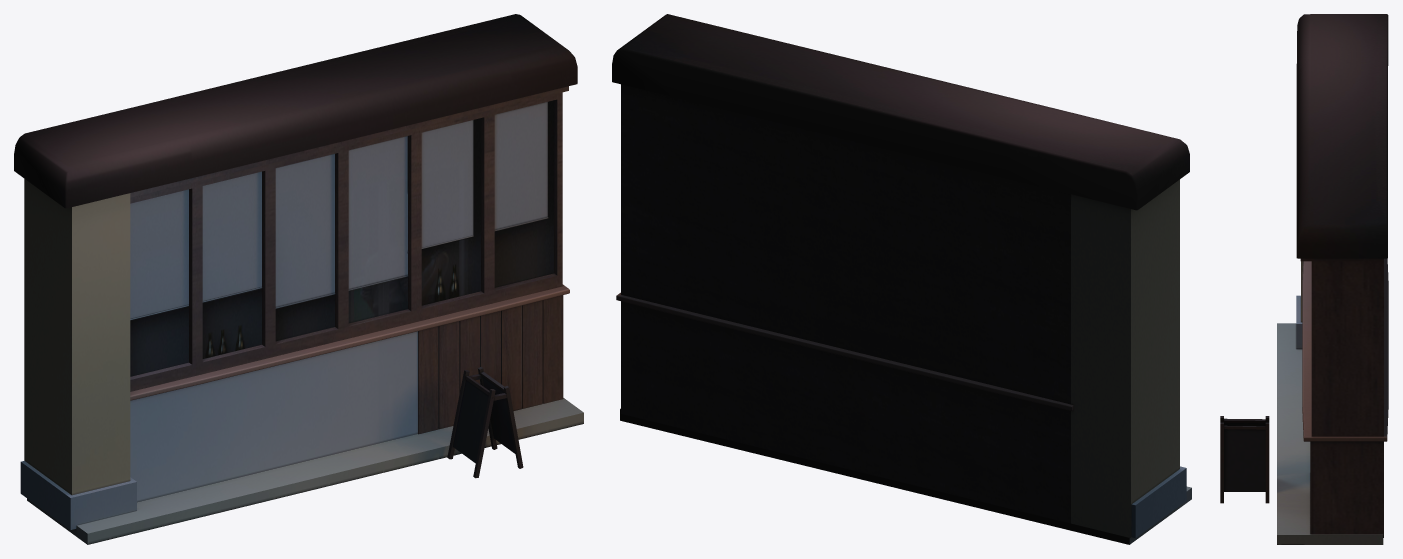
The model's file is Store.glb.
The picture shows the model from 3 angles, left to right: view 1: azimuth 30°, elevation 25°; view 2: azimuth 150°, elevation 25°; view 3: azimuth 270°, elevation 25°; orthographic projection. The views are drawn at different scales.
Parts seen in each view (by area): view 1: Cube.024_Baked; view 2: Cube.024_Baked; view 3: Cube.024_Baked.
Boxes of the visible parts, left/top/right/bottom form: Cube.024_Baked: left=14, top=14, right=583, bottom=544; Cube.024_Baked: left=612, top=14, right=1191, bottom=544; Cube.024_Baked: left=1220, top=14, right=1388, bottom=544.
Bounding box in the file's own units: 5.16 × 3.51 × 1.68.
1 material, 1 textured.
